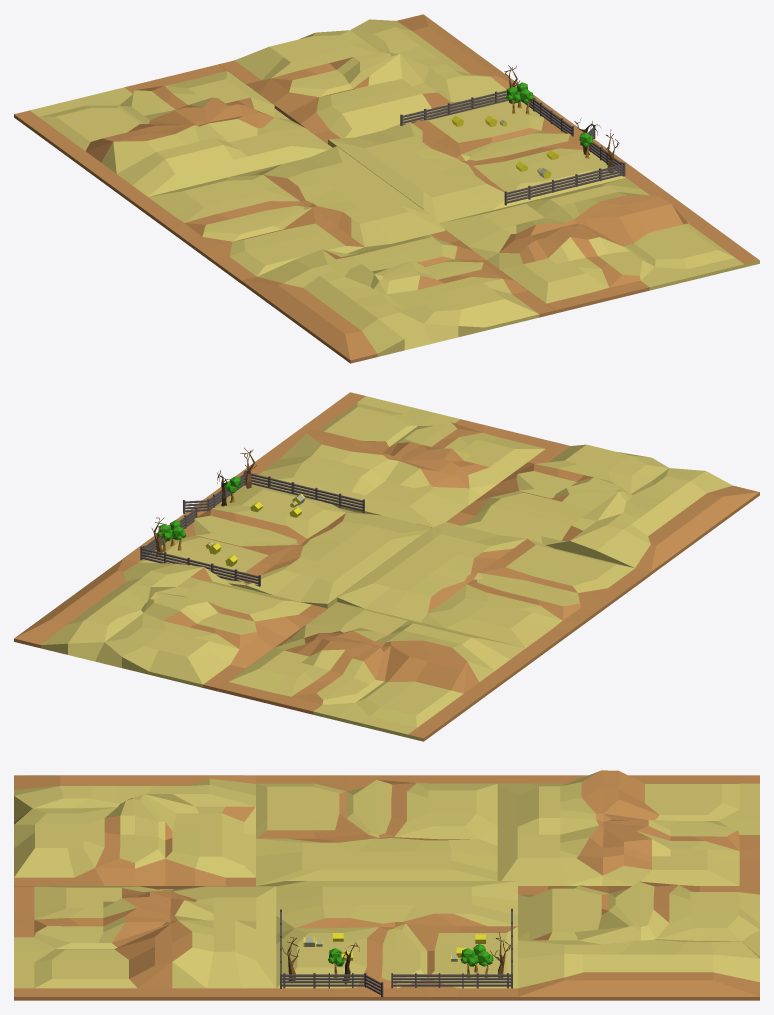
The model's file is FarmLand(simple farm).fbx.
3 renders of one model, top to bottom at view 1: azimuth 30°, elevation 25°; view 2: azimuth 150°, elevation 25°; view 3: azimuth 270°, elevation 25°, orthographic. The views are drawn at different scales.
Visible parts, largest first — view 1: Cube.009, Cube.003; view 2: Cube.009, Cube.003; view 3: Cube.009, Cube.003.
Part boxes in pixels (x1,y1,x2,y2): Cube.009: (14,14,759,363); Cube.003: (400,90,625,205); Cube.009: (14,392,759,741); Cube.003: (140,470,364,586); Cube.009: (14,770,759,1000); Cube.003: (280,908,512,997).
Bounding box in the file's own units: 26102 × 2813 × 37005.
